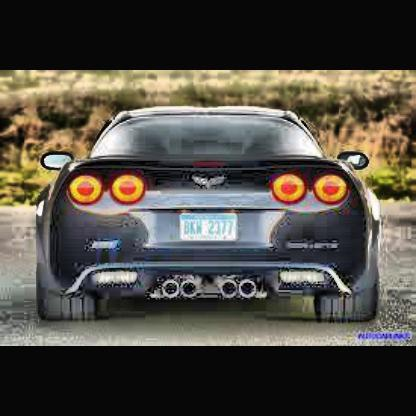Chevrolet Corvette ZR1 2012: (34, 103, 386, 329)
